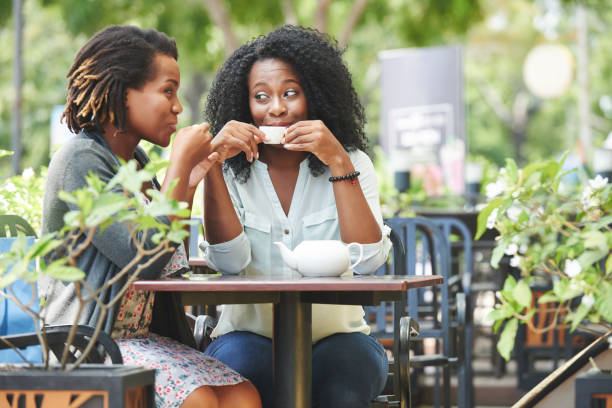drinking: (196, 26, 392, 185)
